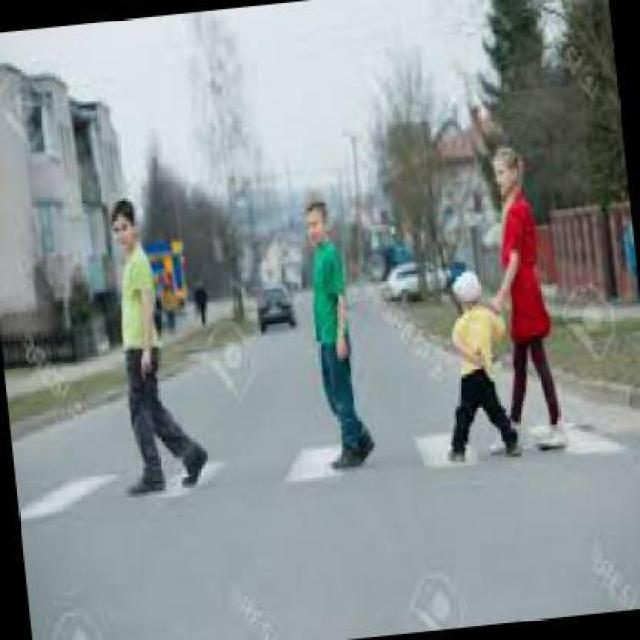Person: (97, 188, 206, 492), (466, 140, 565, 455), (301, 198, 374, 472), (428, 265, 523, 464)
